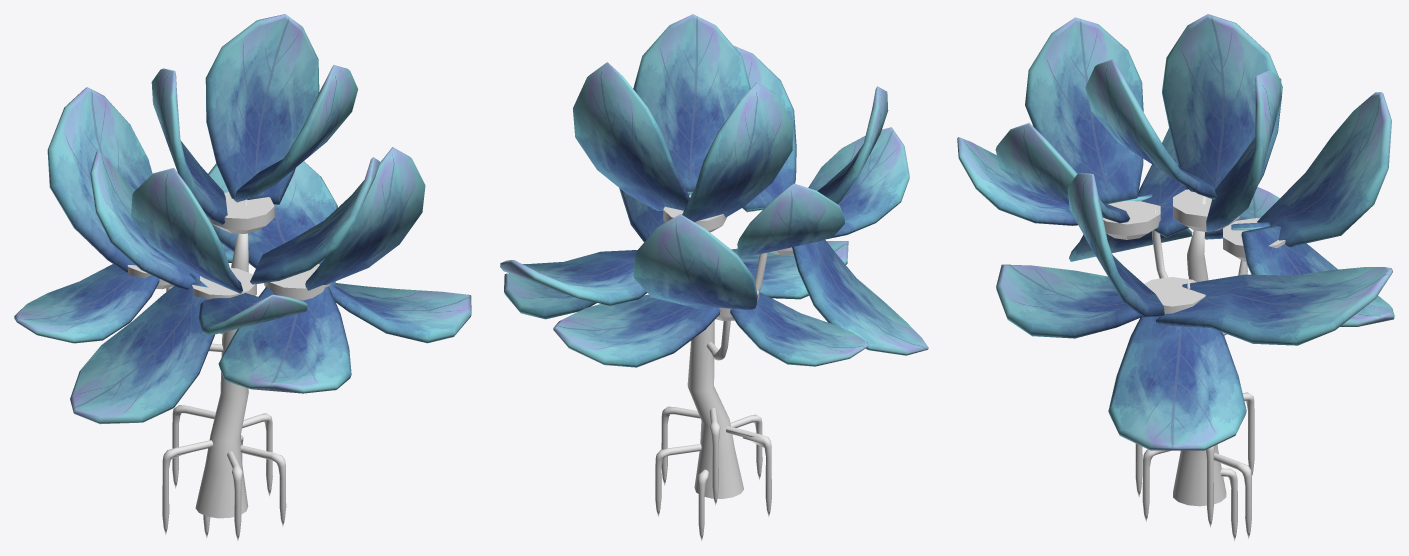
File: MOD_Tree18.FBX
3 views of the same model, side by side, from view 1: azimuth 30°, elevation 25°; view 2: azimuth 150°, elevation 25°; view 3: azimuth 270°, elevation 25° (orthographic). The views are drawn at different scales.
Visible parts, largest first — view 1: Plane043, Cylinder011, Cylinder014; view 2: Plane043, Cylinder011, Cylinder014; view 3: Plane043, Cylinder011, Cylinder014.
Boxes of the visible parts, left/top/right/bottom form: Plane043: left=14, top=14, right=471, bottom=424; Cylinder011: left=162, top=199, right=286, bottom=541; Cylinder014: left=127, top=192, right=331, bottom=300; Plane043: left=500, top=14, right=928, bottom=367; Cylinder011: left=655, top=193, right=771, bottom=541; Cylinder014: left=663, top=195, right=793, bottom=320; Plane043: left=957, top=14, right=1394, bottom=450; Cylinder011: left=1135, top=196, right=1254, bottom=541; Cylinder014: left=1103, top=189, right=1285, bottom=314.
Size of the model in its own units: 237 by 267 by 205.
